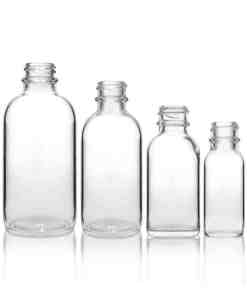glass_bottle: (1, 57, 78, 240), (79, 78, 144, 242), (145, 103, 202, 237), (202, 118, 246, 243)
